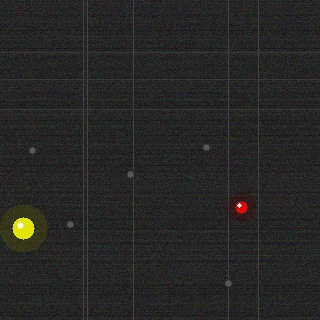red_fault: (233, 199, 249, 215)
yellow_warning: (10, 215, 36, 241)
